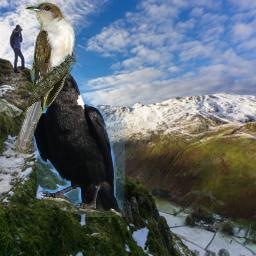Crow: (30, 66, 125, 217)
Cuckoo: (15, 2, 77, 155)
